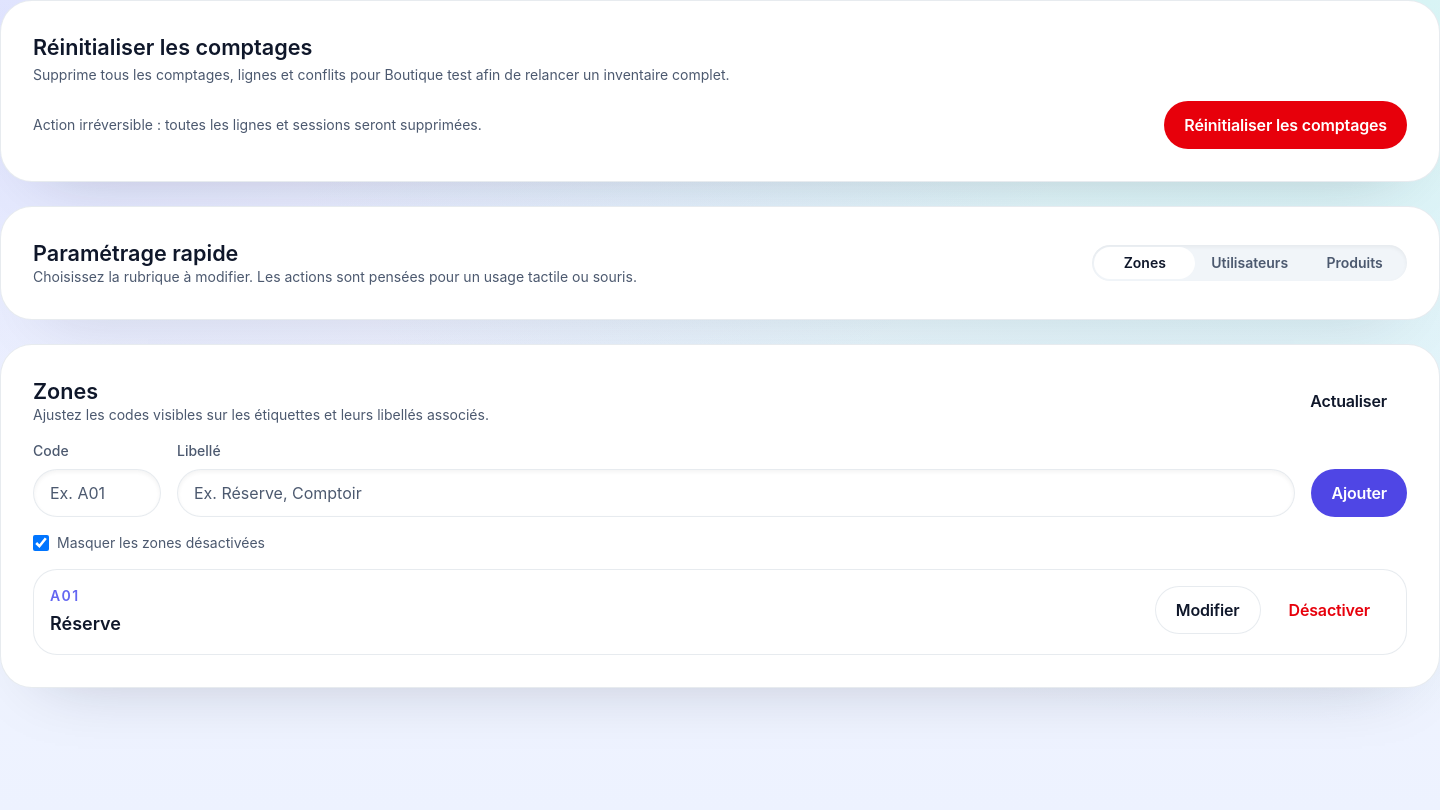
Test: AdminLocationsPage › désactive une zone et la masque par défaut
The width and height of the screenshot is (1440, 810).
expect the element with test id "location-card" is shown: met, box [33, 569, 1407, 655]
Click the button "Désactiver" at (1329, 610), box [1268, 586, 1390, 634]
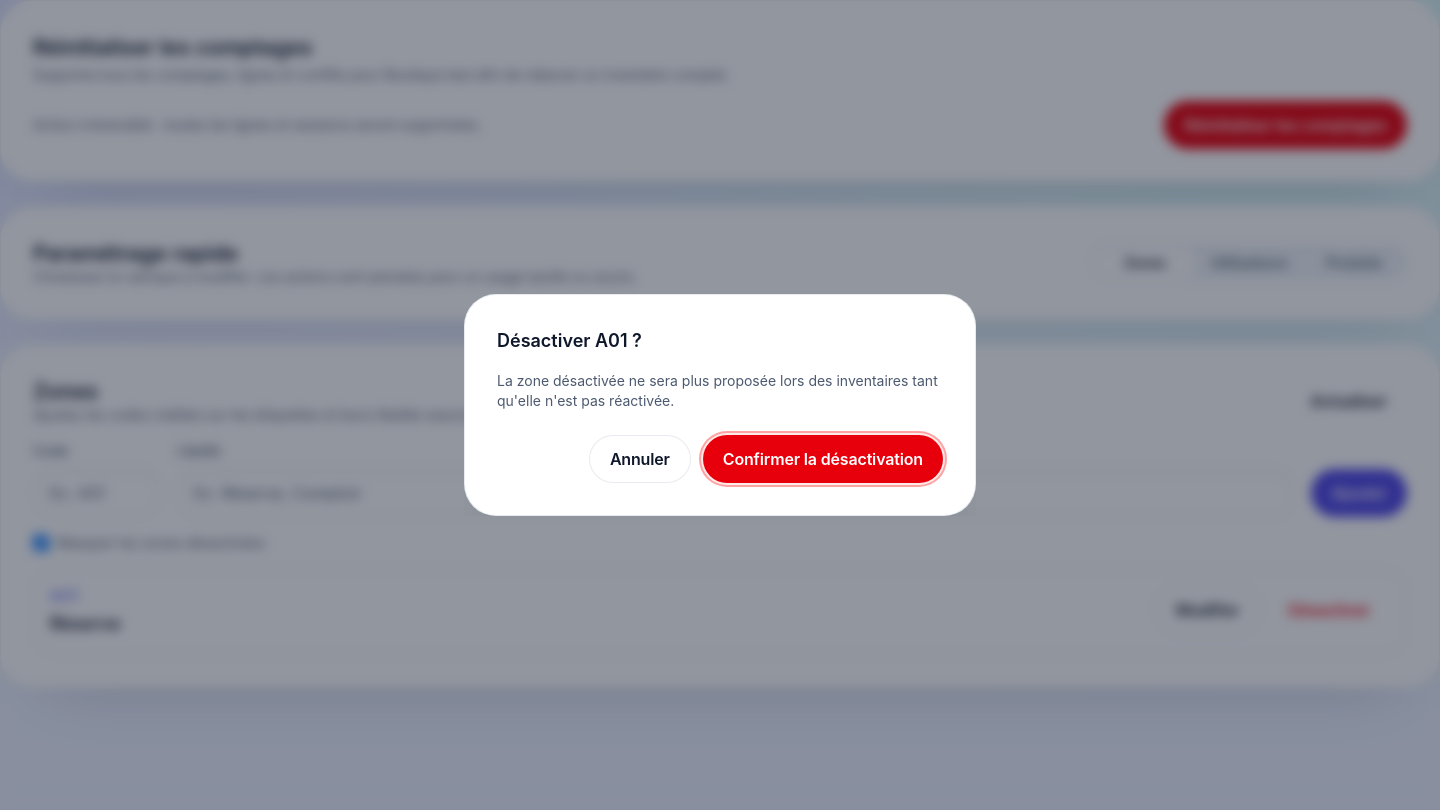
Click the button "Confirmer la désactivation" at (823, 459), box [703, 435, 943, 483]
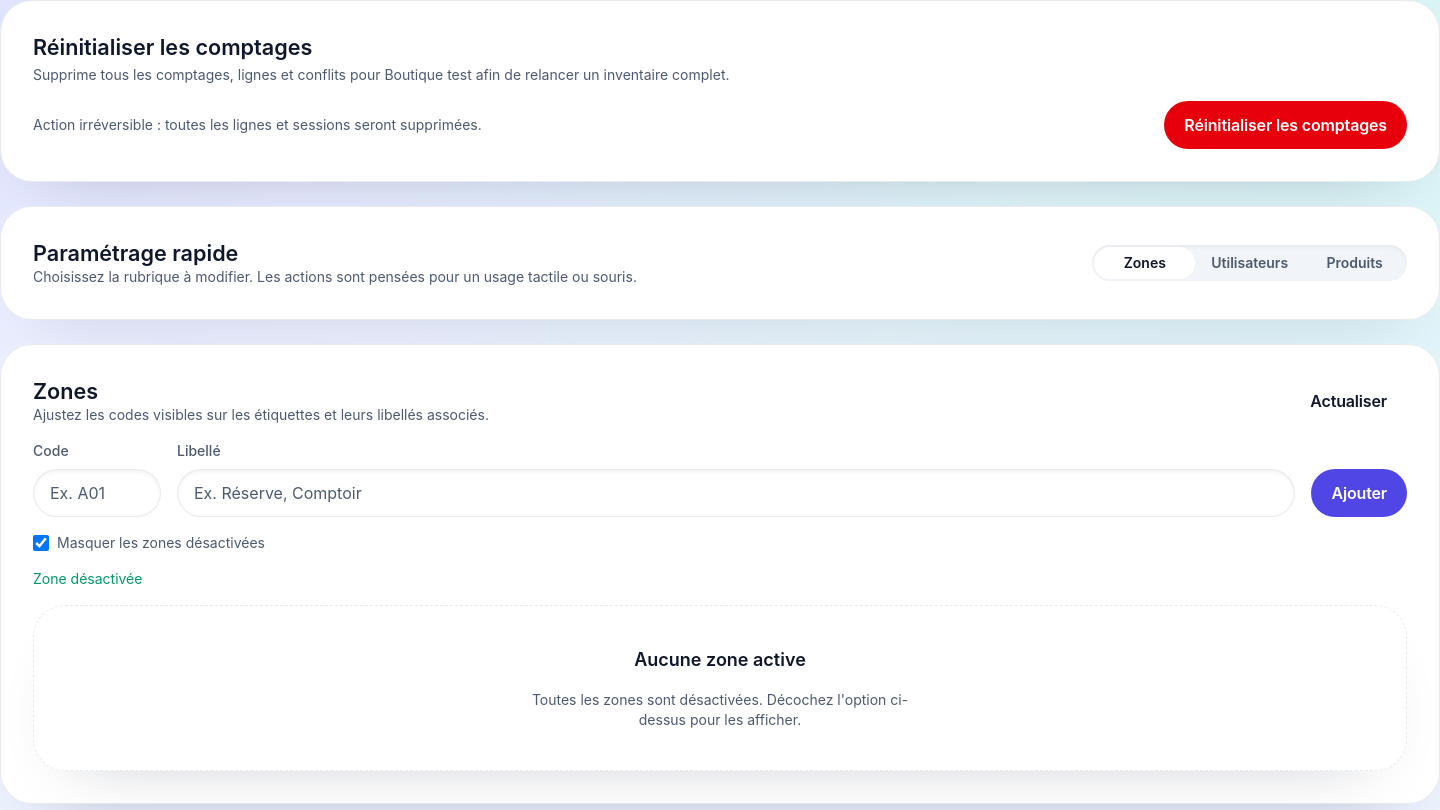
expect the text "Zone désactivée" is shown: met, box [33, 570, 142, 587]
expect the element with test id "location-card" is gone: met
Click the checkbox labelled "Masquer les zones désactivées" at (41, 543), box [33, 535, 49, 551]
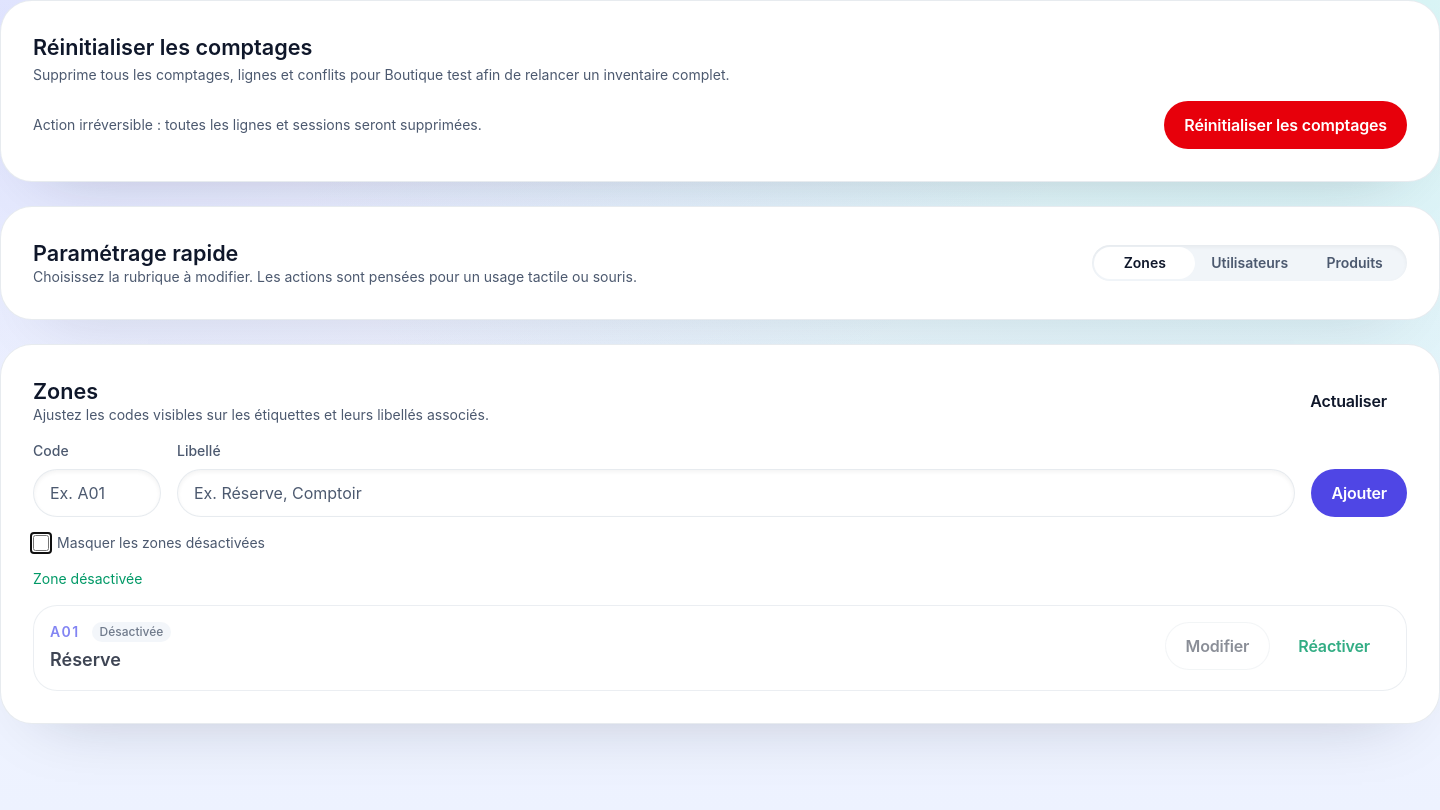
expect the text "Désactivée" is shown: met, box [92, 622, 171, 642]
expect the element with test id "location-card" is shown: met, box [33, 605, 1407, 691]
Click the button "Réactiver" at (1334, 646), box [1278, 622, 1390, 670]
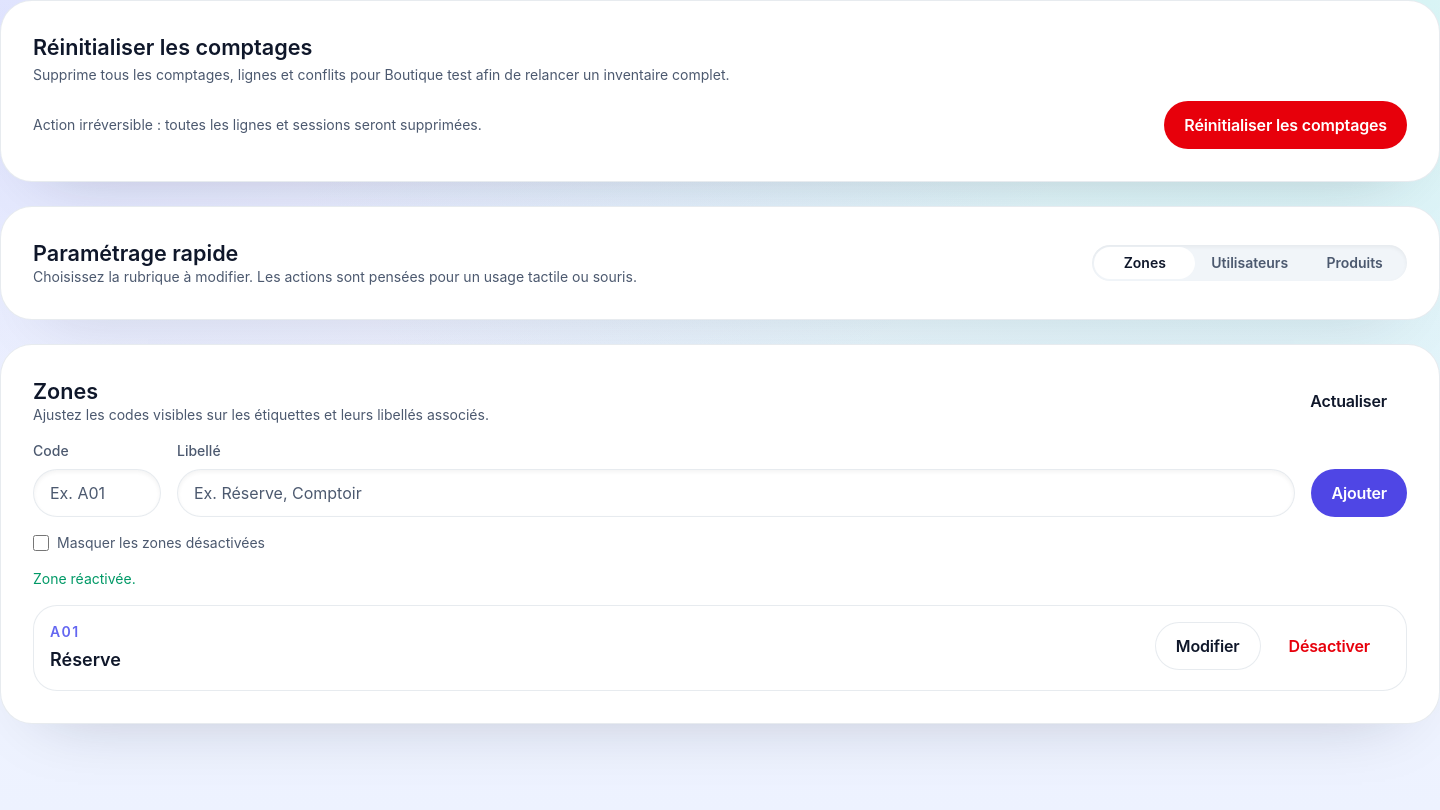
expect the text "Zone réactivée." is shown: met, box [33, 570, 136, 587]
